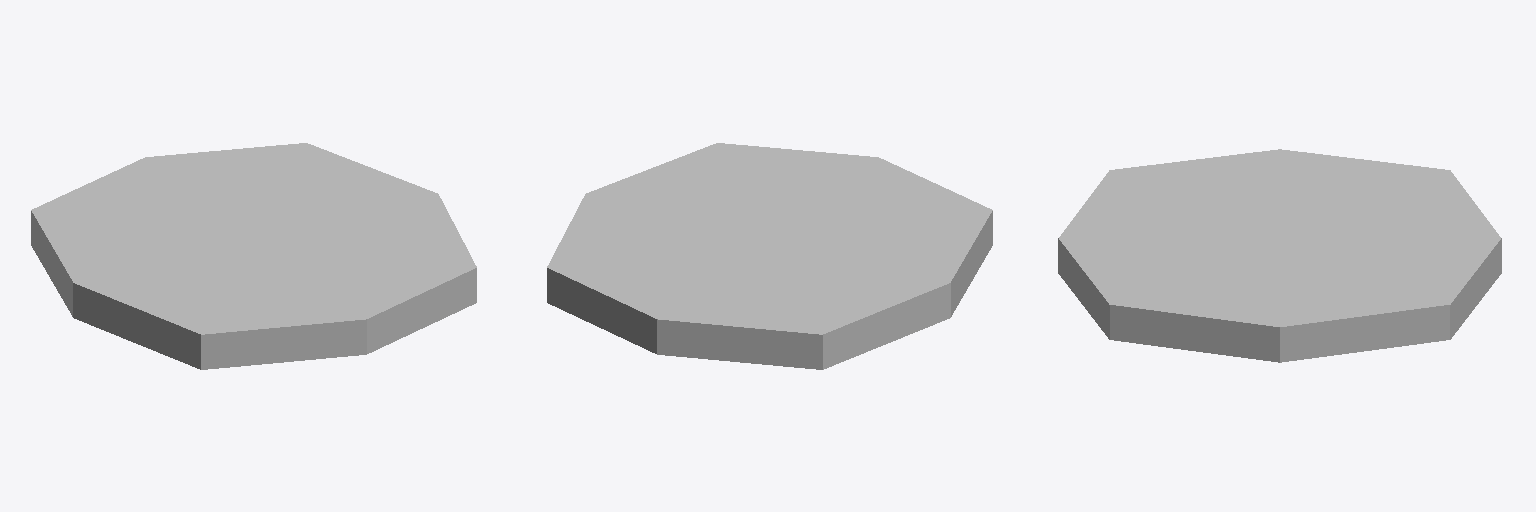
The model's file is potContainer.obj.
The picture shows the model from 3 angles: view 1: azimuth 30°, elevation 25°; view 2: azimuth 150°, elevation 25°; view 3: azimuth 270°, elevation 25°; orthographic projection.
Parts seen in each view (by area): view 1: pCube1; view 2: pCube1; view 3: pCube1.
Part boxes in pixels (bbox=[...]): pCube1: bbox=[31, 143, 476, 369]; pCube1: bbox=[547, 143, 992, 369]; pCube1: bbox=[1058, 149, 1501, 362].
Bounding box in the file's own units: 1.68 × 0.155 × 1.76.